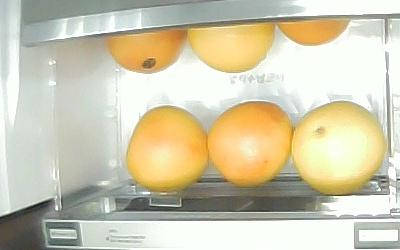grapefruit: (291, 101, 386, 195), (207, 102, 293, 187), (127, 106, 208, 193), (188, 23, 275, 73), (106, 28, 188, 74), (277, 18, 352, 46)
